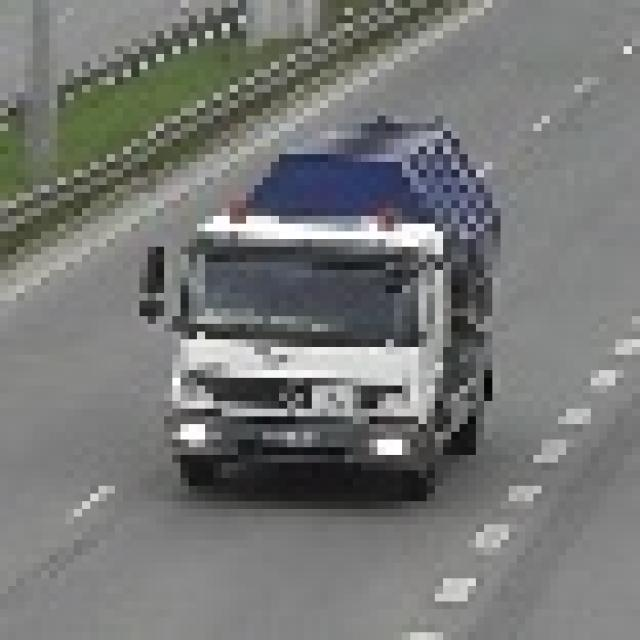Truck: (131, 116, 484, 486)
